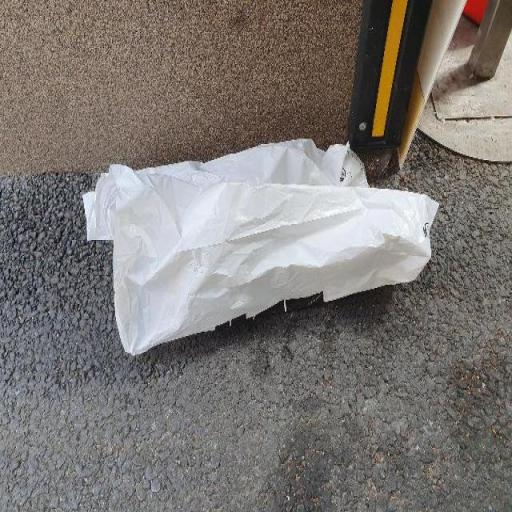plastic-bag: (80, 135, 442, 358)
